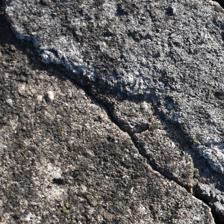Crack: (85, 126, 224, 224), (70, 69, 217, 159)
